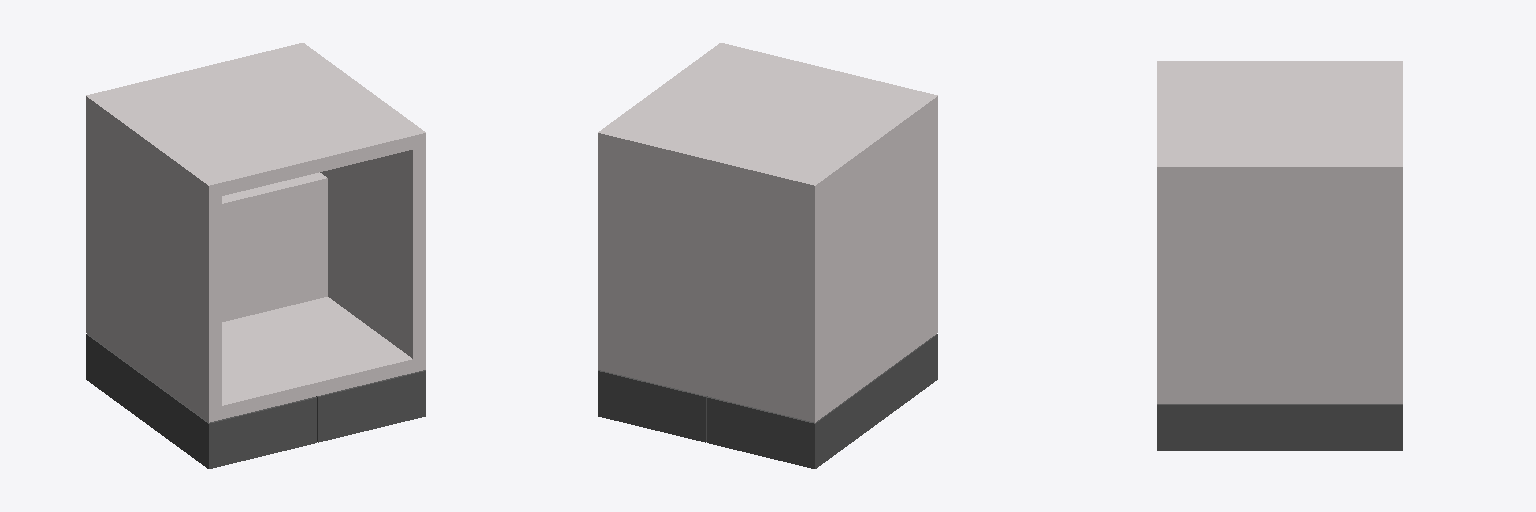
Rendered from case.obj.
3 views of the same model, side by side, from view 1: azimuth 30°, elevation 25°; view 2: azimuth 150°, elevation 25°; view 3: azimuth 270°, elevation 25° (orthographic).
Visible parts, largest first — view 1: object_3, object_2, object_1; view 2: object_3, object_2, object_1; view 3: object_3, object_1.
Boxes of the visible parts, <box> form: object_3: <box>86,43,425,422</box>; object_2: <box>86,334,316,468</box>; object_1: <box>316,370,425,442</box>; object_3: <box>598,43,937,422</box>; object_2: <box>707,334,937,468</box>; object_1: <box>598,370,707,442</box>; object_3: <box>1157,61,1402,403</box>; object_1: <box>1157,404,1402,450</box>.
Size of the model in its own units: 25 by 31.12 by 24.5.